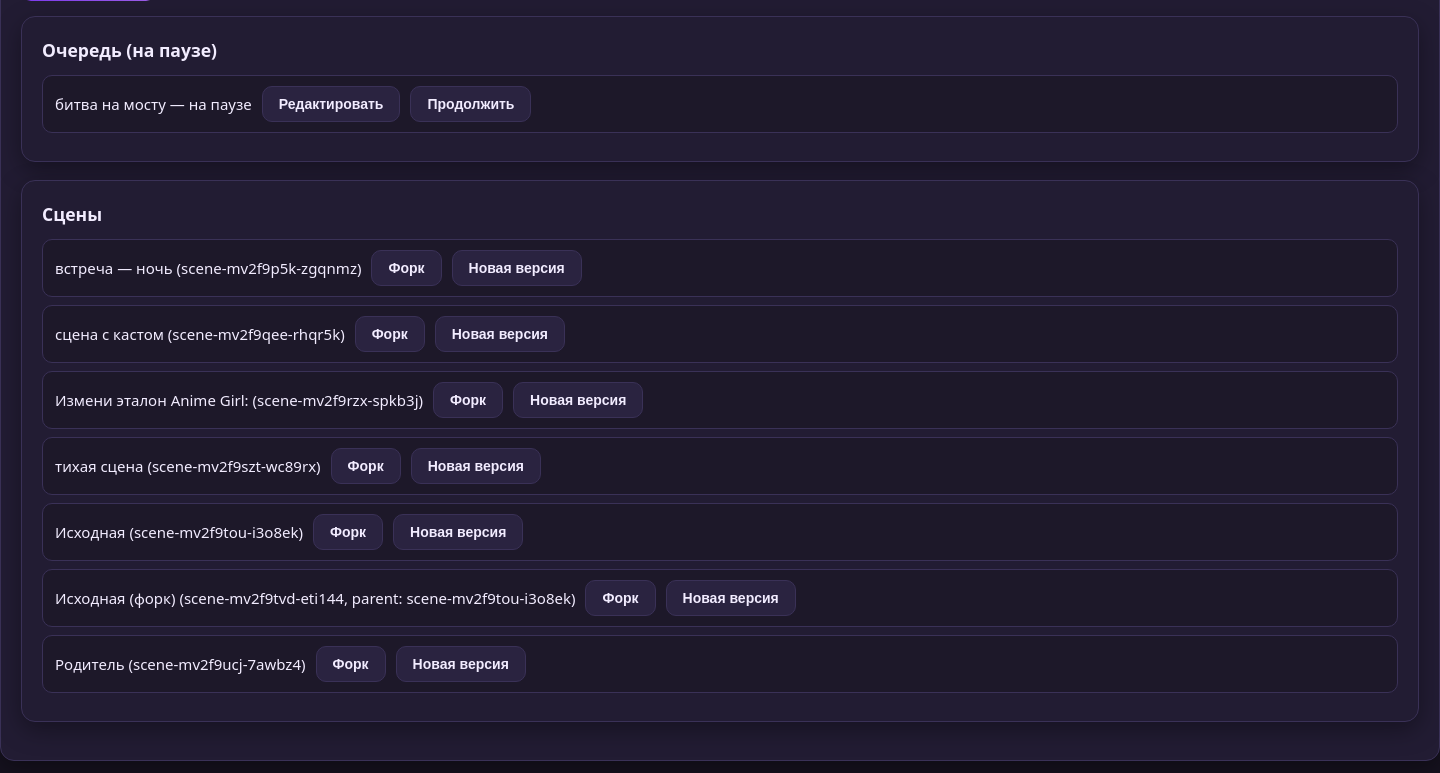
Scenario: SceneComposer (cast + missing proposals + paused queue) › new version reports changed parts for the next frame (diff, not full redraw)
(page scrolled)
Click the button "Новая версия" in the row of "Родитель". click: click(461, 664)
box: x1=396 y1=646 x2=526 y2=682
(page scrolled)
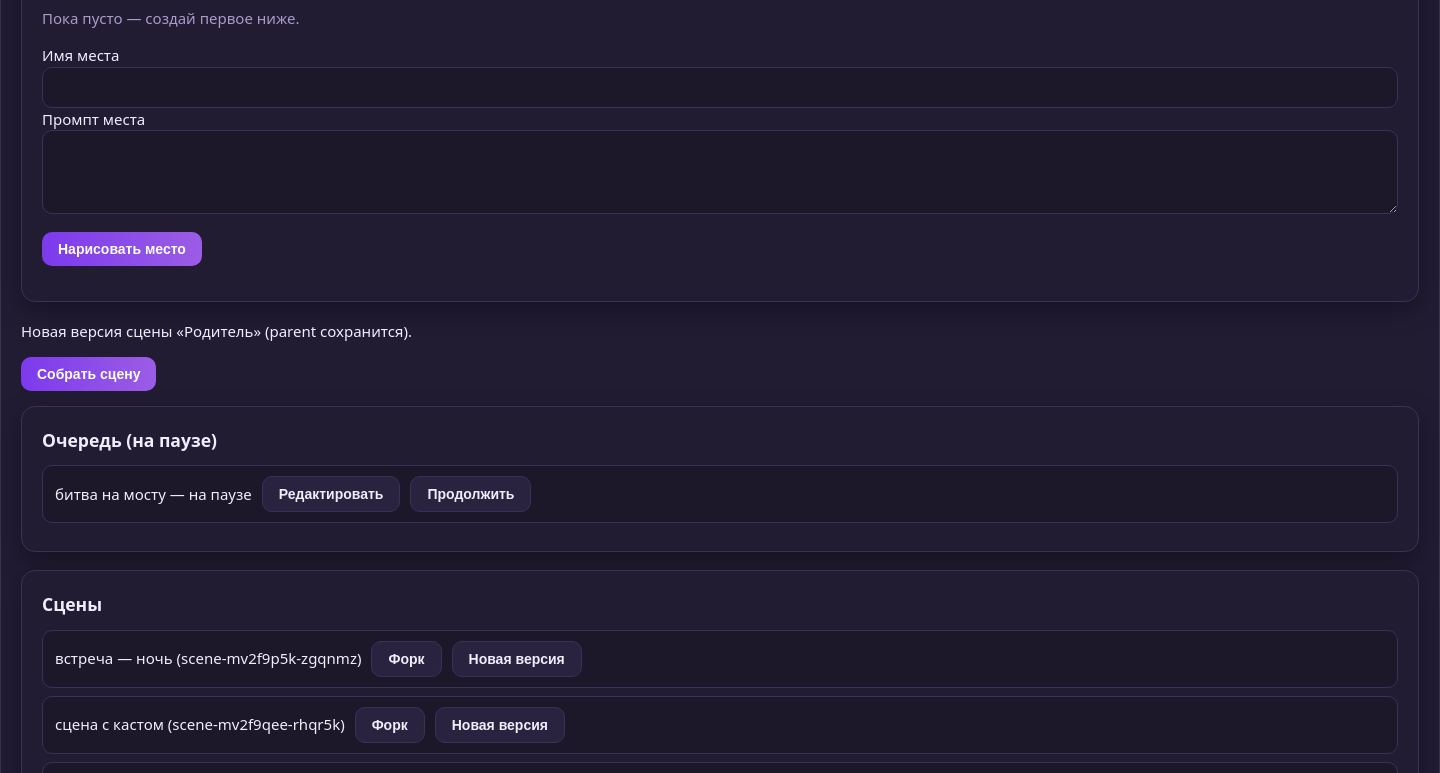
Click the button "Собрать сцену". click: click(89, 374)
box: x1=21 y1=357 x2=156 y2=391
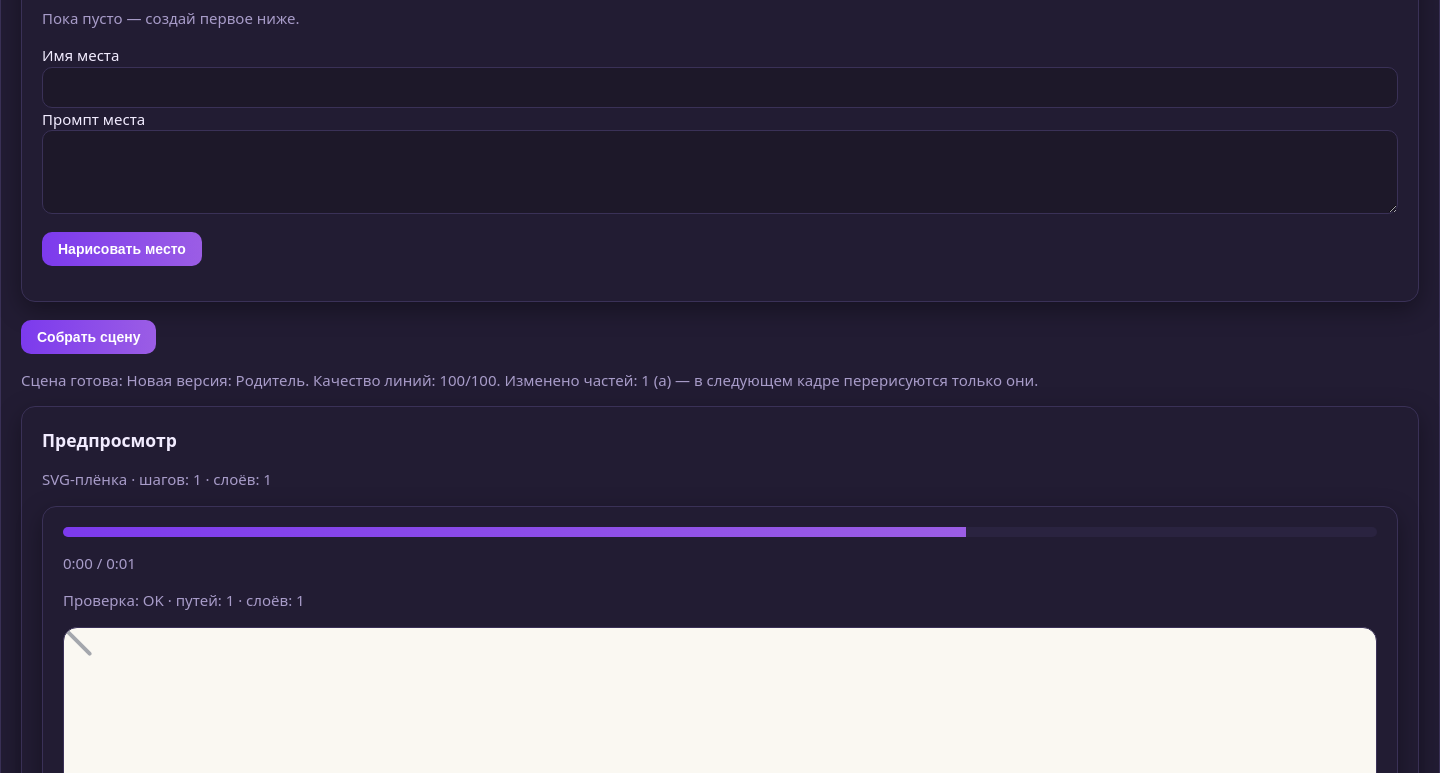
expect the text "Изменено частей" is shown: met, box x1=21 y1=370 x2=1038 y2=390
